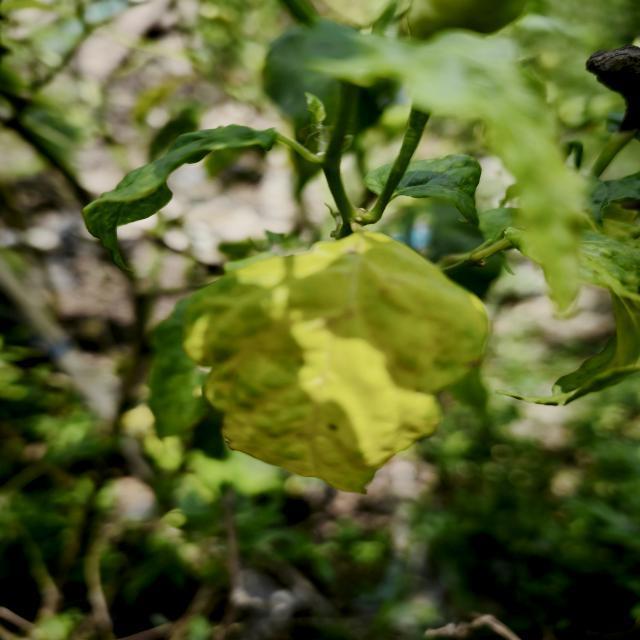Virus Kuning: (167, 228, 491, 495)
